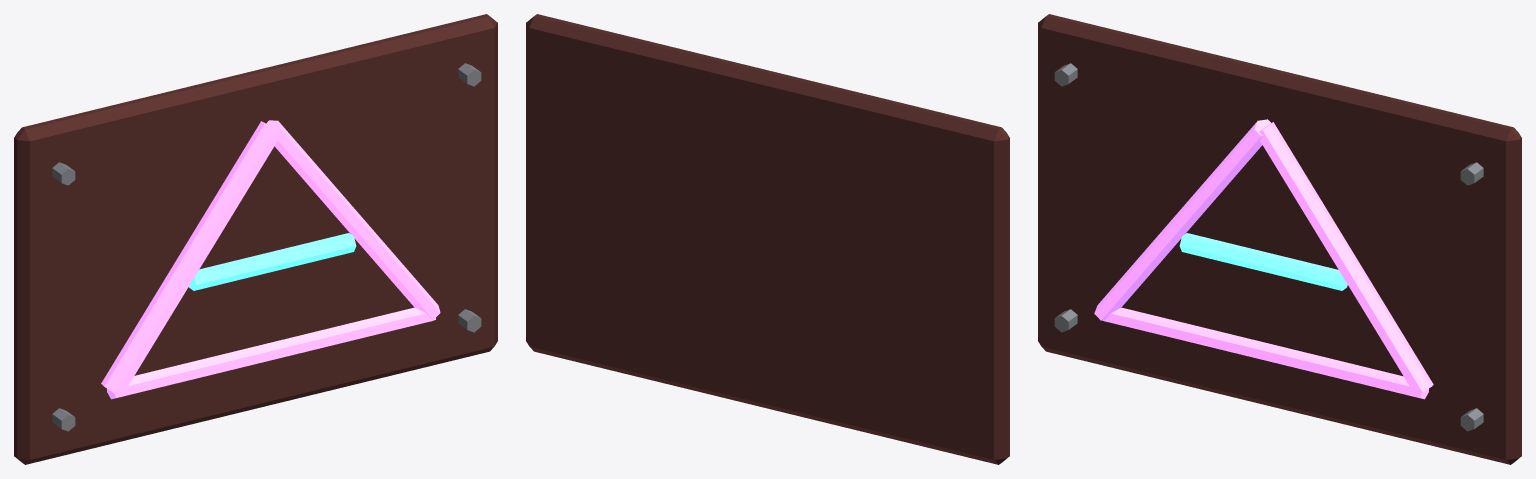
The model's file is neon_wall_sign.glb.
3 renders of one model, left to right at view 1: azimuth 30°, elevation 25°; view 2: azimuth 150°, elevation 25°; view 3: azimuth 330°, elevation 25°, orthographic.
Visible parts, largest first — view 1: neon_wall_sign; view 2: neon_wall_sign; view 3: neon_wall_sign.
Part boxes in pixels (<box>): neon_wall_sign: <box>14,14,497,464</box>; neon_wall_sign: <box>526,14,1009,464</box>; neon_wall_sign: <box>1038,14,1521,464</box>.
Bounding box in the file's own units: 0.9 × 0.6 × 0.0919.
